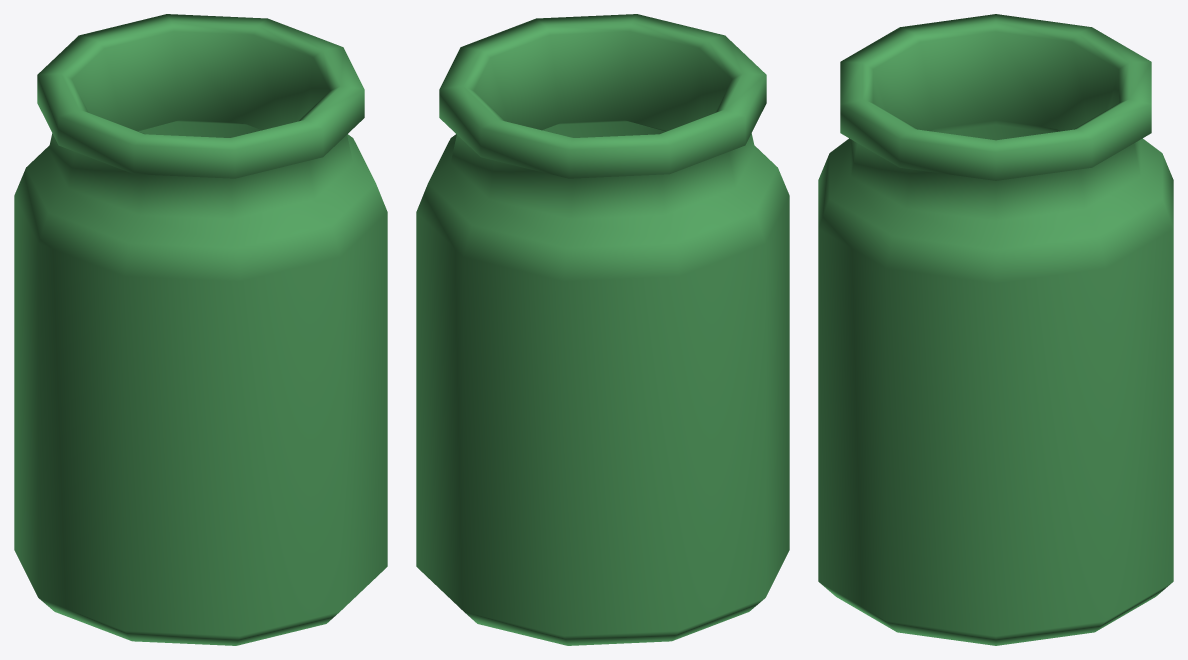
File: li_jar02.fbx
3 views of the same model, side by side, from view 1: azimuth 30°, elevation 25°; view 2: azimuth 150°, elevation 25°; view 3: azimuth 270°, elevation 25° (orthographic).
Visible parts, largest first — view 1: li_jar02; view 2: li_jar02; view 3: li_jar02.
Boxes of the visible parts, <box> form: li_jar02: <box>14,14,387,645</box>; li_jar02: <box>416,14,789,645</box>; li_jar02: <box>818,14,1173,645</box>.
Size of the model in its own units: 7.71 by 11.25 by 7.34.
